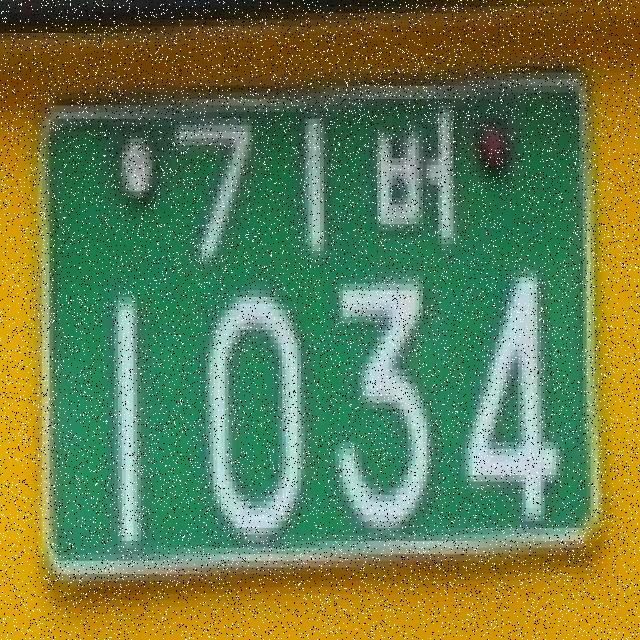licenseplate: (38, 71, 602, 592)
